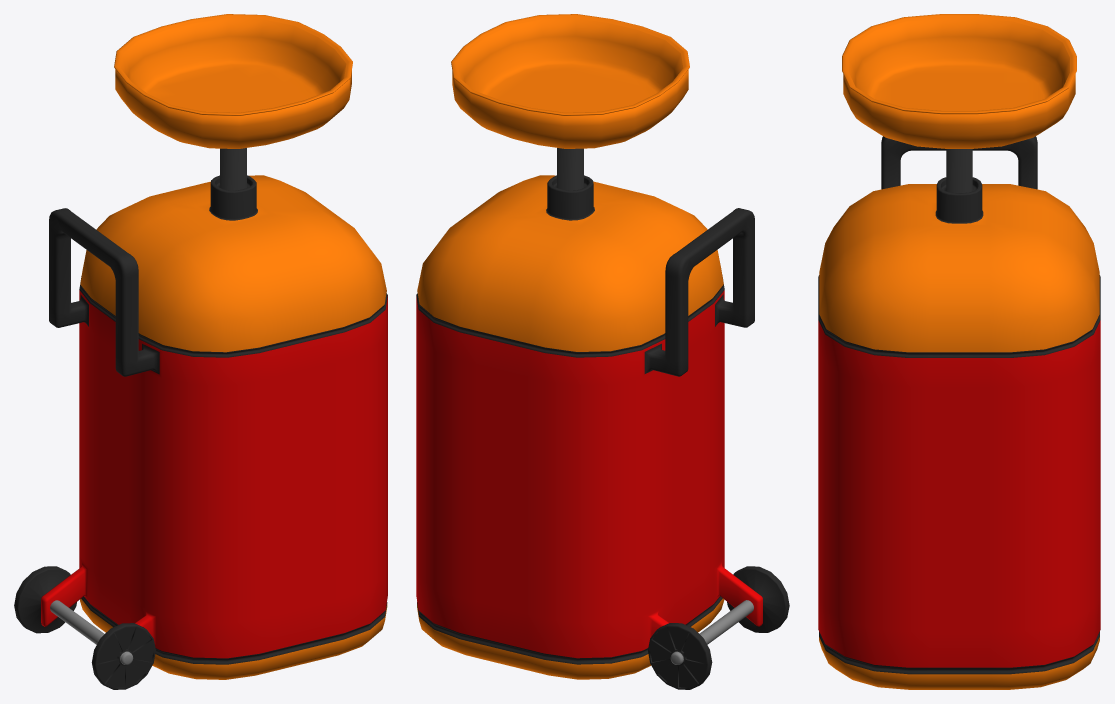
File: Prop_OilTank.fbx
3 views of the same model, side by side, from view 1: azimuth 30°, elevation 25°; view 2: azimuth 150°, elevation 25°; view 3: azimuth 270°, elevation 25° (orthographic). The views are drawn at different scales.
Visible parts, largest first — view 1: OilTank, OilTand_Drain, OilTank_Wheels; view 2: OilTank, OilTand_Drain, OilTank_Wheels; view 3: OilTank, OilTand_Drain.
Boxes of the visible parts, bbox=[...] form: OilTank: bbox=[41, 148, 387, 679]; OilTand_Drain: bbox=[114, 14, 352, 148]; OilTank_Wheels: bbox=[14, 566, 155, 689]; OilTank: bbox=[416, 148, 762, 679]; OilTand_Drain: bbox=[451, 14, 689, 148]; OilTank_Wheels: bbox=[648, 566, 789, 689]; OilTank: bbox=[818, 136, 1100, 689]; OilTand_Drain: bbox=[842, 14, 1076, 148].
Size of the model in its own units: 50.15 by 90.13 by 40.
